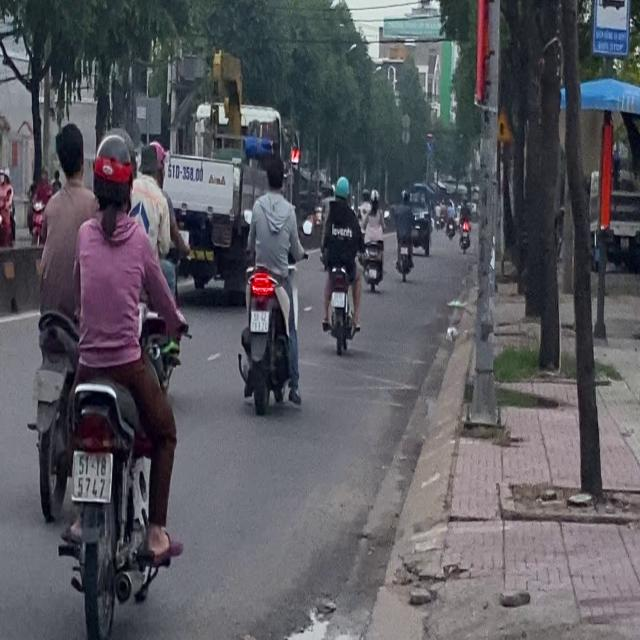helmet: (90, 131, 135, 214), (334, 175, 350, 201)
licenseplate: (48, 123, 187, 635), (24, 117, 82, 519), (237, 152, 304, 413), (318, 174, 365, 355)
motorcyclist: (53, 121, 86, 183), (263, 154, 285, 193)
nohelmet: (72, 451, 112, 500), (32, 368, 63, 399), (250, 309, 268, 332), (331, 292, 345, 308)
